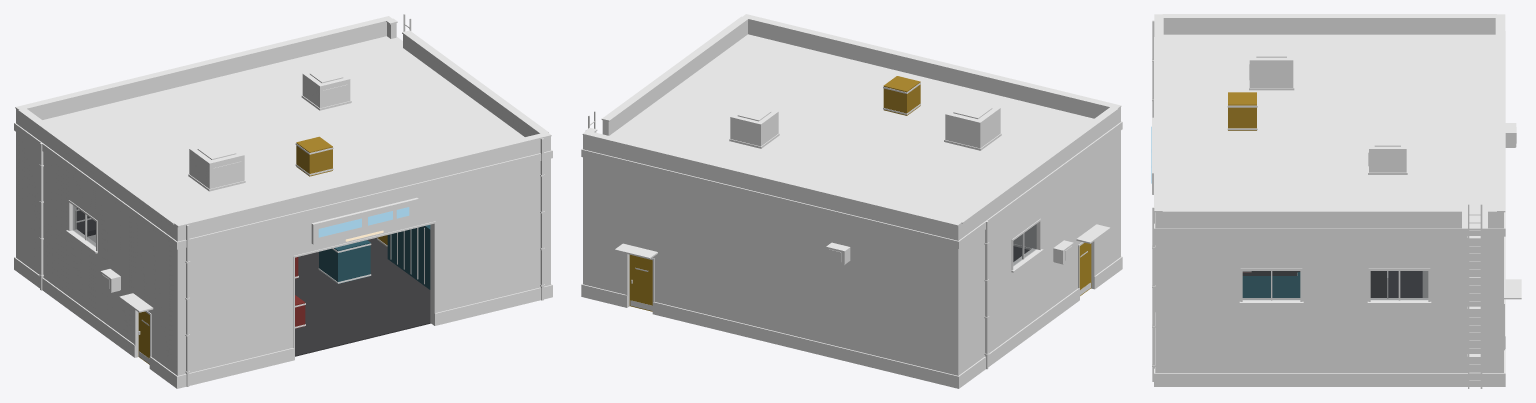
File: house_warehouse.glb
3 renders of one model, left to right at view 1: azimuth 30°, elevation 25°; view 2: azimuth 150°, elevation 25°; view 3: azimuth 270°, elevation 25°, orthographic. The views are drawn at different scales.
Visible parts, largest first — view 1: warehouse_shutter, warehouse_concrete_dark, warehouse_gunmetal, warehouse_floor, warehouse_dark, warehouse_paint_teal, warehouse_titan, warehouse_paint_yellow, warehouse_win_cool, warehouse_pane, door_1_door_yellow; view 2: warehouse_shutter, warehouse_concrete_dark, warehouse_gunmetal, warehouse_titan, warehouse_dark, warehouse_paint_yellow, door_0_door_yellow, warehouse_pane, door_1_door_yellow; view 3: warehouse_concrete_dark, warehouse_shutter, warehouse_gunmetal, warehouse_pane, warehouse_titan, warehouse_dark, warehouse_paint_teal, warehouse_paint_yellow, warehouse_tread, warehouse_floor.
Boxes of the visible parts, <box> form: warehouse_shutter: <box>16,22,550,375</box>; warehouse_concrete_dark: <box>14,36,552,388</box>; warehouse_gunmetal: <box>15,14,551,386</box>; warehouse_floor: <box>295,237,430,356</box>; warehouse_dark: <box>39,68,544,373</box>; warehouse_paint_teal: <box>319,225,430,289</box>; warehouse_titan: <box>100,66,350,292</box>; warehouse_paint_yellow: <box>296,136,387,247</box>; warehouse_win_cool: <box>318,207,409,237</box>; warehouse_pane: <box>73,205,95,246</box>; door_1_door_yellow: <box>138,311,149,364</box>; warehouse_shutter: <box>583,20,1120,375</box>; warehouse_concrete_dark: <box>581,34,1122,388</box>; warehouse_gunmetal: <box>582,14,1121,369</box>; warehouse_titan: <box>730,99,1073,264</box>; warehouse_dark: <box>737,82,1072,355</box>; warehouse_paint_yellow: <box>883,76,920,115</box>; door_0_door_yellow: <box>629,255,652,311</box>; warehouse_pane: <box>1013,224,1036,265</box>; door_1_door_yellow: <box>1079,243,1091,295</box>; warehouse_concrete_dark: <box>1154,31,1505,386</box>; warehouse_shutter: <box>1155,19,1503,372</box>; warehouse_gunmetal: <box>1152,14,1521,388</box>; warehouse_pane: <box>1243,271,1427,299</box>; warehouse_titan: <box>1249,42,1516,172</box>; warehouse_dark: <box>1152,43,1516,366</box>; warehouse_paint_teal: <box>1242,272,1300,297</box>; warehouse_paint_yellow: <box>1228,92,1256,130</box>; warehouse_tread: <box>1388,271,1422,297</box>; warehouse_floor: <box>1242,271,1386,297</box>.
Bounding box in the file's own units: 16.83 × 7.36 × 12.74.
